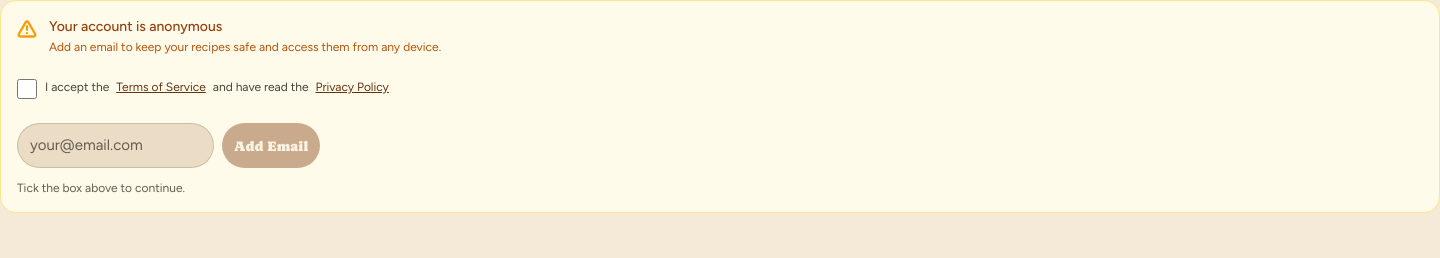
EmailLinkingForm (warning, anonymous user) › has an unticked required box linking both policies in a new tab, and gates the button
Step 1. Type " A@Example.com" into the field with placeholder "your@email.com" → (116, 146), box [17,123,214,168]
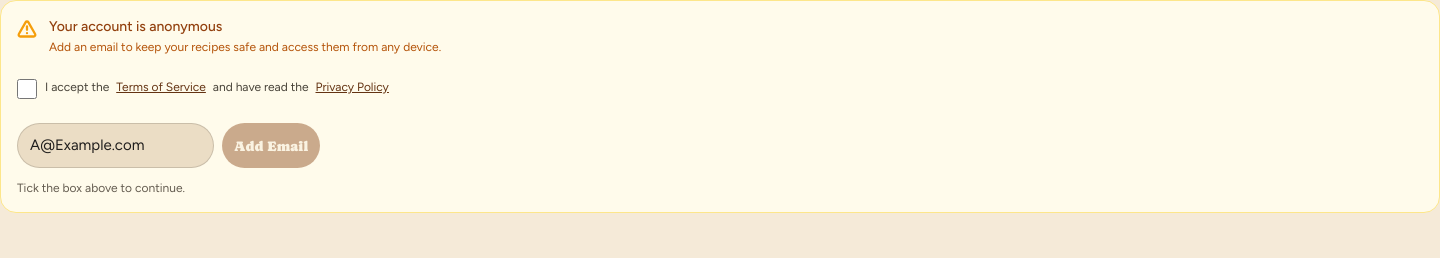
Check: the checkbox labelled "I accept the Terms of Service and have read the Privacy Policy" is not checked, box [17,79,37,99]
Check: the button "Add Email" is disabled, box [222,123,320,168]
Step 2. Press Enter in the field with placeholder "your@email.com", box [17,123,214,168]
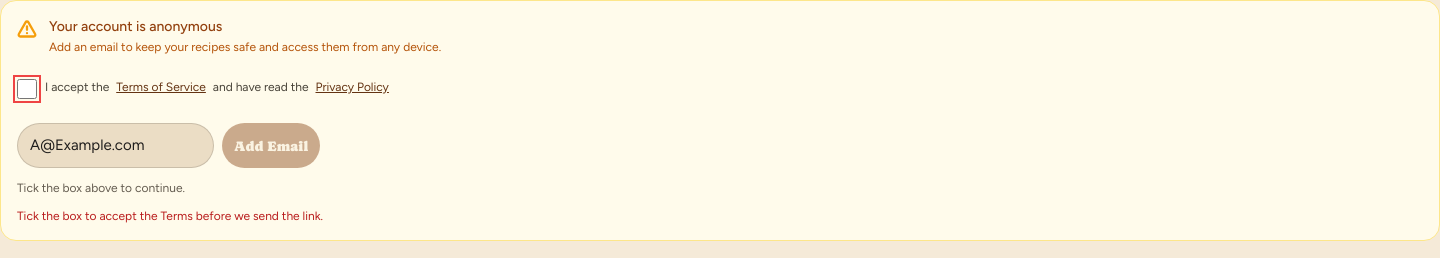
Step 3. Click the checkbox labelled "I accept the Terms of Service and have read the Privacy Policy" → click(27, 89), box [17,79,37,99]
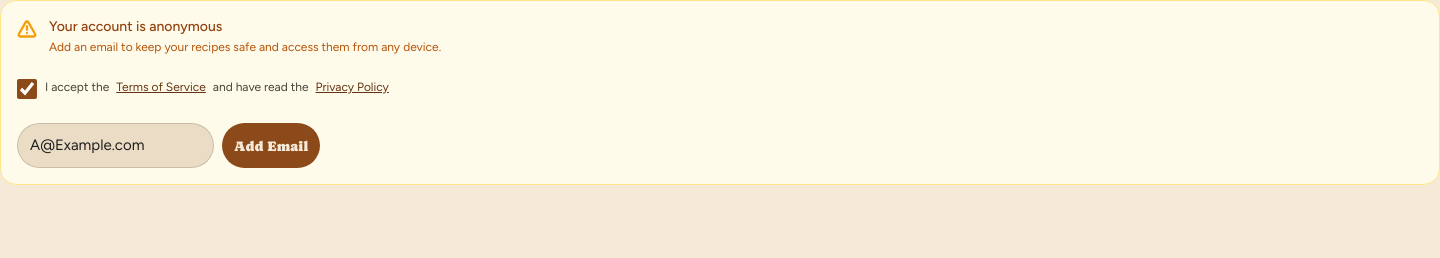
Check: the button "Add Email" is enabled, box [222,123,320,168]
